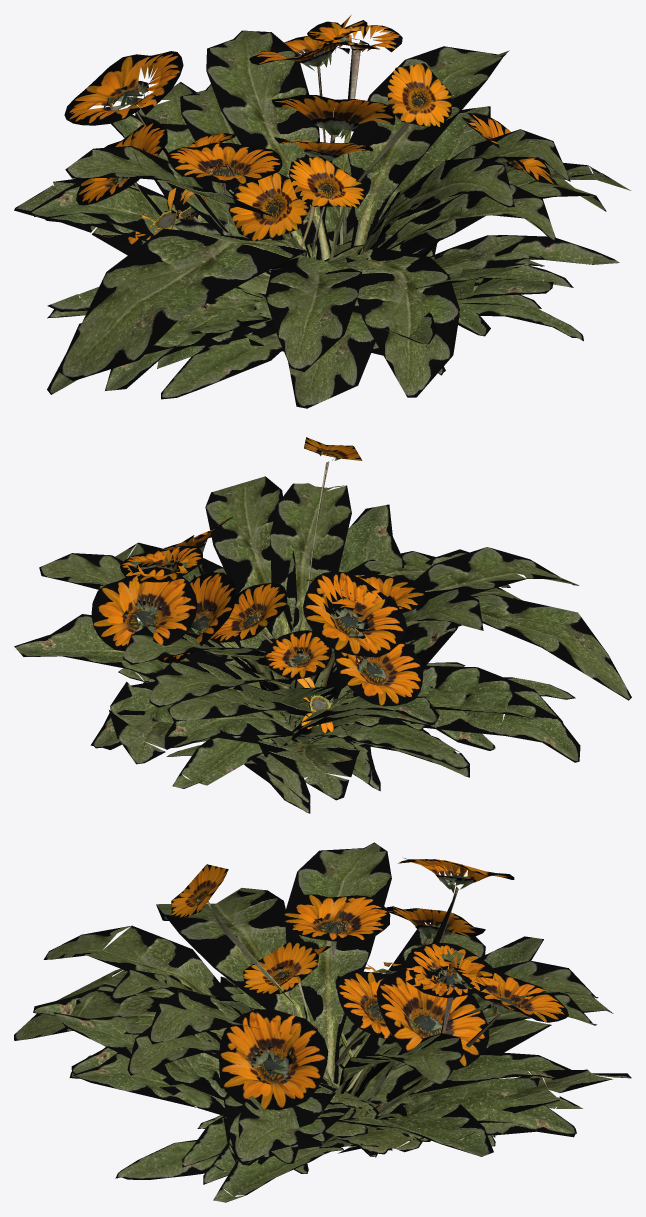
File: gul.glb
3 renders of one model, top to bottom at view 1: azimuth 30°, elevation 25°; view 2: azimuth 150°, elevation 25°; view 3: azimuth 270°, elevation 25°, orthographic. The views are drawn at different scales.
Parts seen in each view (by area): view 1: gul_7, gul_5, gul_6, gul_4, gul_3, gul_1, gul_2; view 2: gul_7, gul_5, gul_6, gul_4, gul_3, gul_2, gul_1; view 3: gul_7, gul_5, gul_6, gul_3, gul_1, gul_4, gul_2.
Part boxes in pixels (x1=…): gul_7: x1=58, y1=15, x2=630, y2=397; gul_5: x1=14, y1=82, x2=606, y2=394; gul_6: x1=105, y1=20, x2=573, y2=408; gul_4: x1=30, y1=133, x2=544, y2=316; gul_3: x1=161, y1=137, x2=526, y2=399; gul_1: x1=203, y1=155, x2=583, y2=375; gul_2: x1=33, y1=213, x2=543, y2=318; gul_7: x1=14, y1=437, x2=631, y2=788; gul_5: x1=142, y1=547, x2=580, y2=800; gul_6: x1=91, y1=517, x2=563, y2=733; gul_4: x1=143, y1=575, x2=469, y2=803; gul_3: x1=165, y1=582, x2=575, y2=791; gul_2: x1=166, y1=668, x2=469, y2=813; gul_1: x1=90, y1=644, x2=495, y2=750; gul_7: x1=14, y1=842, x2=631, y2=1202; gul_5: x1=33, y1=906, x2=613, y2=1167; gul_6: x1=57, y1=946, x2=596, y2=1184; gul_3: x1=71, y1=971, x2=570, y2=1163; gul_1: x1=69, y1=1016, x2=576, y2=1179; gul_4: x1=209, y1=894, x2=498, y2=1164; gul_2: x1=204, y1=933, x2=495, y2=1165.
Size of the model in its own units: 0.3406 by 0.1645 by 0.3268.
Materials: 1 (1 with a texture image).
